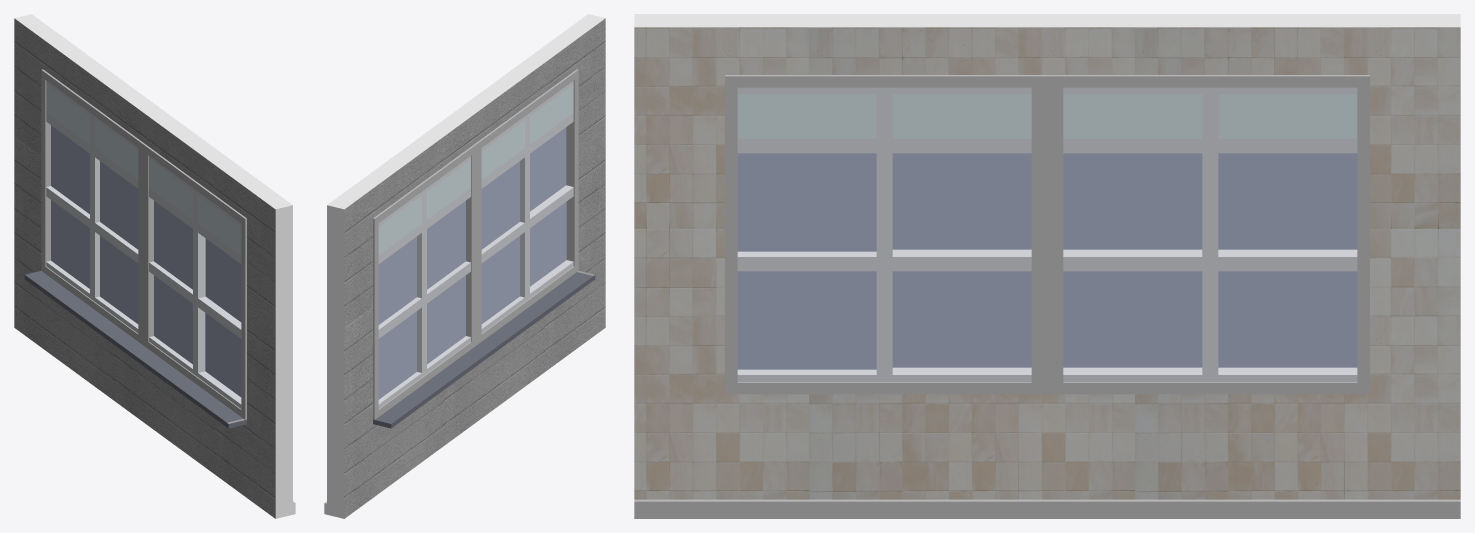
The model's file is Pared_Ventanas.fbx.
3 renders of one model, left to right at view 1: azimuth 30°, elevation 25°; view 2: azimuth 150°, elevation 25°; view 3: azimuth 270°, elevation 25°, orthographic. The views are drawn at different scales.
Parts seen in each view (by area): view 1: Mesh86; view 2: Mesh86; view 3: Mesh86.
Part boxes in pixels (bbox=[...]): Mesh86: bbox=[14, 14, 295, 518]; Mesh86: bbox=[324, 14, 605, 518]; Mesh86: bbox=[634, 14, 1460, 518].
Size of the model in its own units: 44 by 340 by 520.
